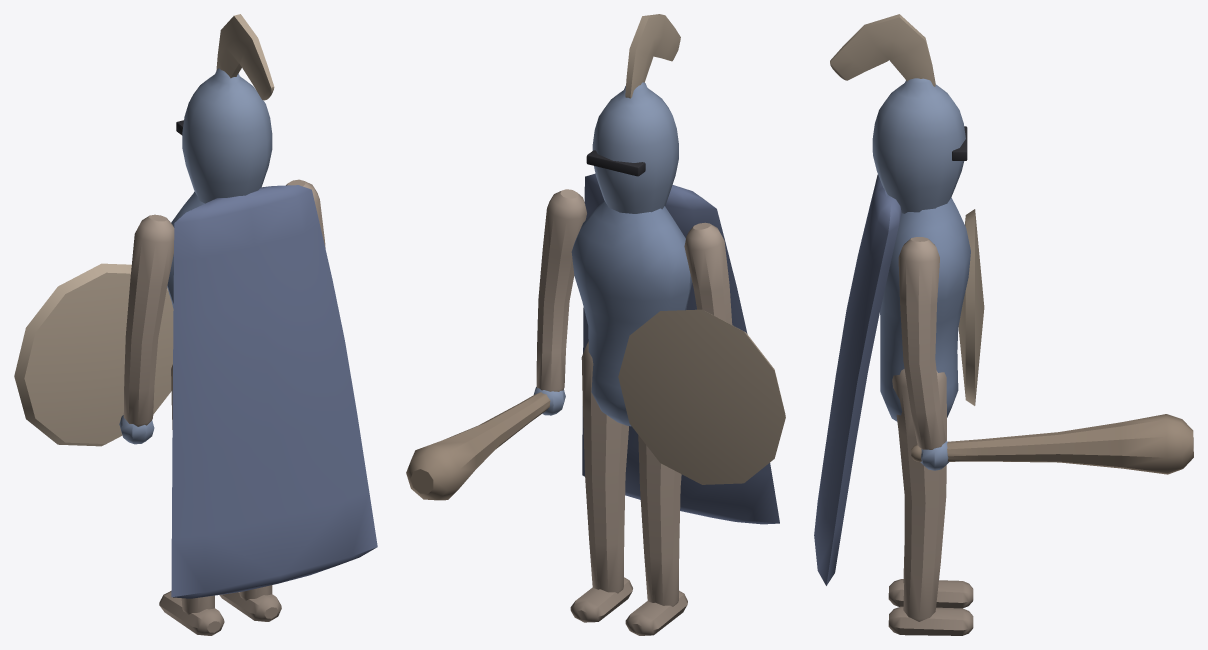
Rendered from blue_warrior.gltf.
3 views of the same model, side by side, from view 1: azimuth 30°, elevation 25°; view 2: azimuth 150°, elevation 25°; view 3: azimuth 270°, elevation 25° (orthographic). The views are drawn at different scales.
Visible parts, largest first — view 1: Body, ArmL, SwingA, SwingB; view 2: Body, ArmL, ArmR, SwingB, SwingA; view 3: Body, ArmR, SwingB, ArmL, SwingA.
Part boxes in pixels (box(x1,y1,x2,y2)): Body: box(167, 14, 377, 598); ArmL: box(14, 214, 174, 446); SwingA: box(159, 364, 224, 635); SwingB: box(219, 585, 281, 621); Body: box(571, 14, 779, 524); ArmL: box(618, 222, 785, 484); ArmR: box(406, 189, 586, 500); SwingB: box(570, 341, 632, 622); SwingA: box(625, 435, 687, 635); Body: box(814, 14, 970, 585); ArmR: box(898, 237, 1193, 474); SwingB: box(888, 369, 973, 635); ArmL: box(958, 209, 984, 405); SwingA: box(888, 545, 973, 608).
Bounding box in the file's own units: 1.08 × 2.15 × 1.23.
